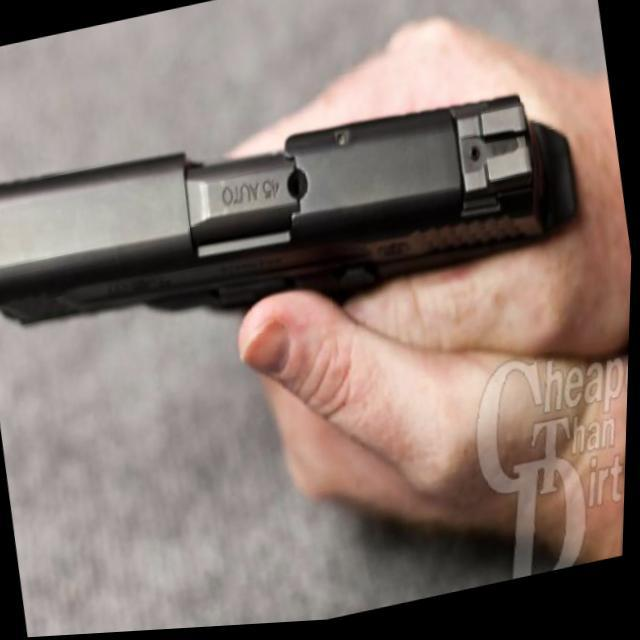weapon: (0, 62, 591, 369)
